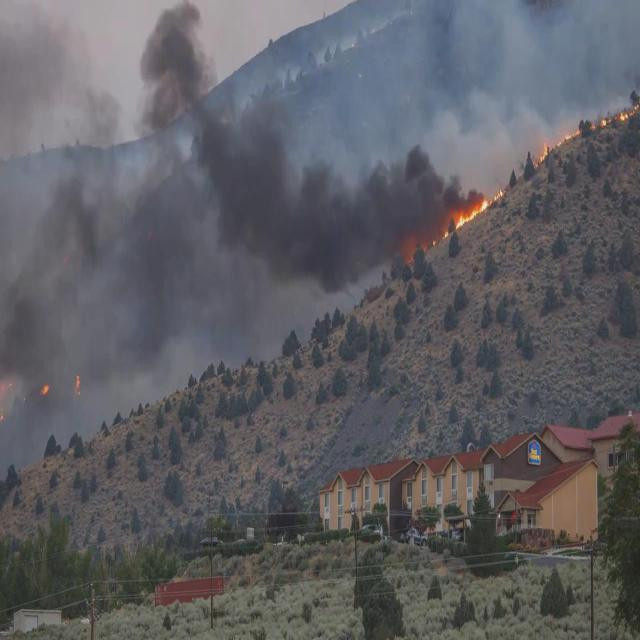smoke: (0, 0, 206, 380), (212, 127, 398, 288), (405, 5, 635, 104), (403, 116, 507, 182)
